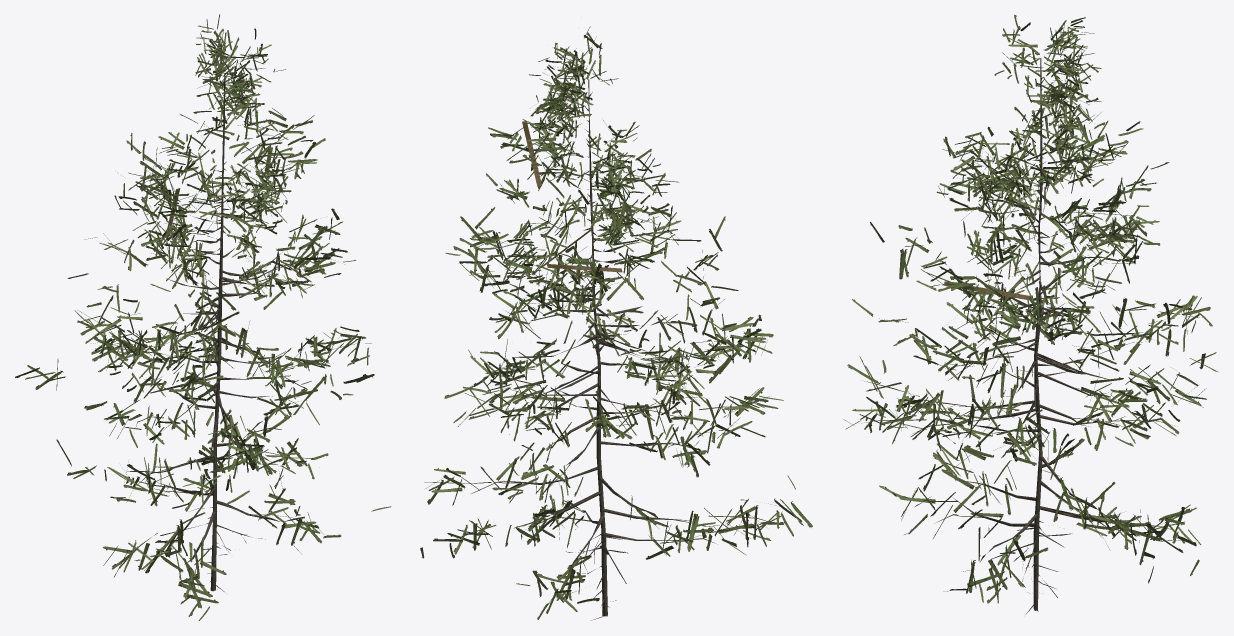
Rendered from fir.glb.
3 renders of one model, left to right at view 1: azimuth 30°, elevation 25°; view 2: azimuth 150°, elevation 25°; view 3: azimuth 270°, elevation 25°, orthographic. The views are drawn at different scales.
Parts seen in each view (by area): view 1: lod1; view 2: lod1; view 3: lod1.
Part boxes in pixels (box(x1,y1,x2,y2)): lod1: box(15, 14, 391, 620); lod1: box(420, 26, 812, 620); lod1: box(843, 14, 1218, 614).
Size of the model in its own units: 8.57 by 16.11 by 8.91.
2 materials, 2 textured.
